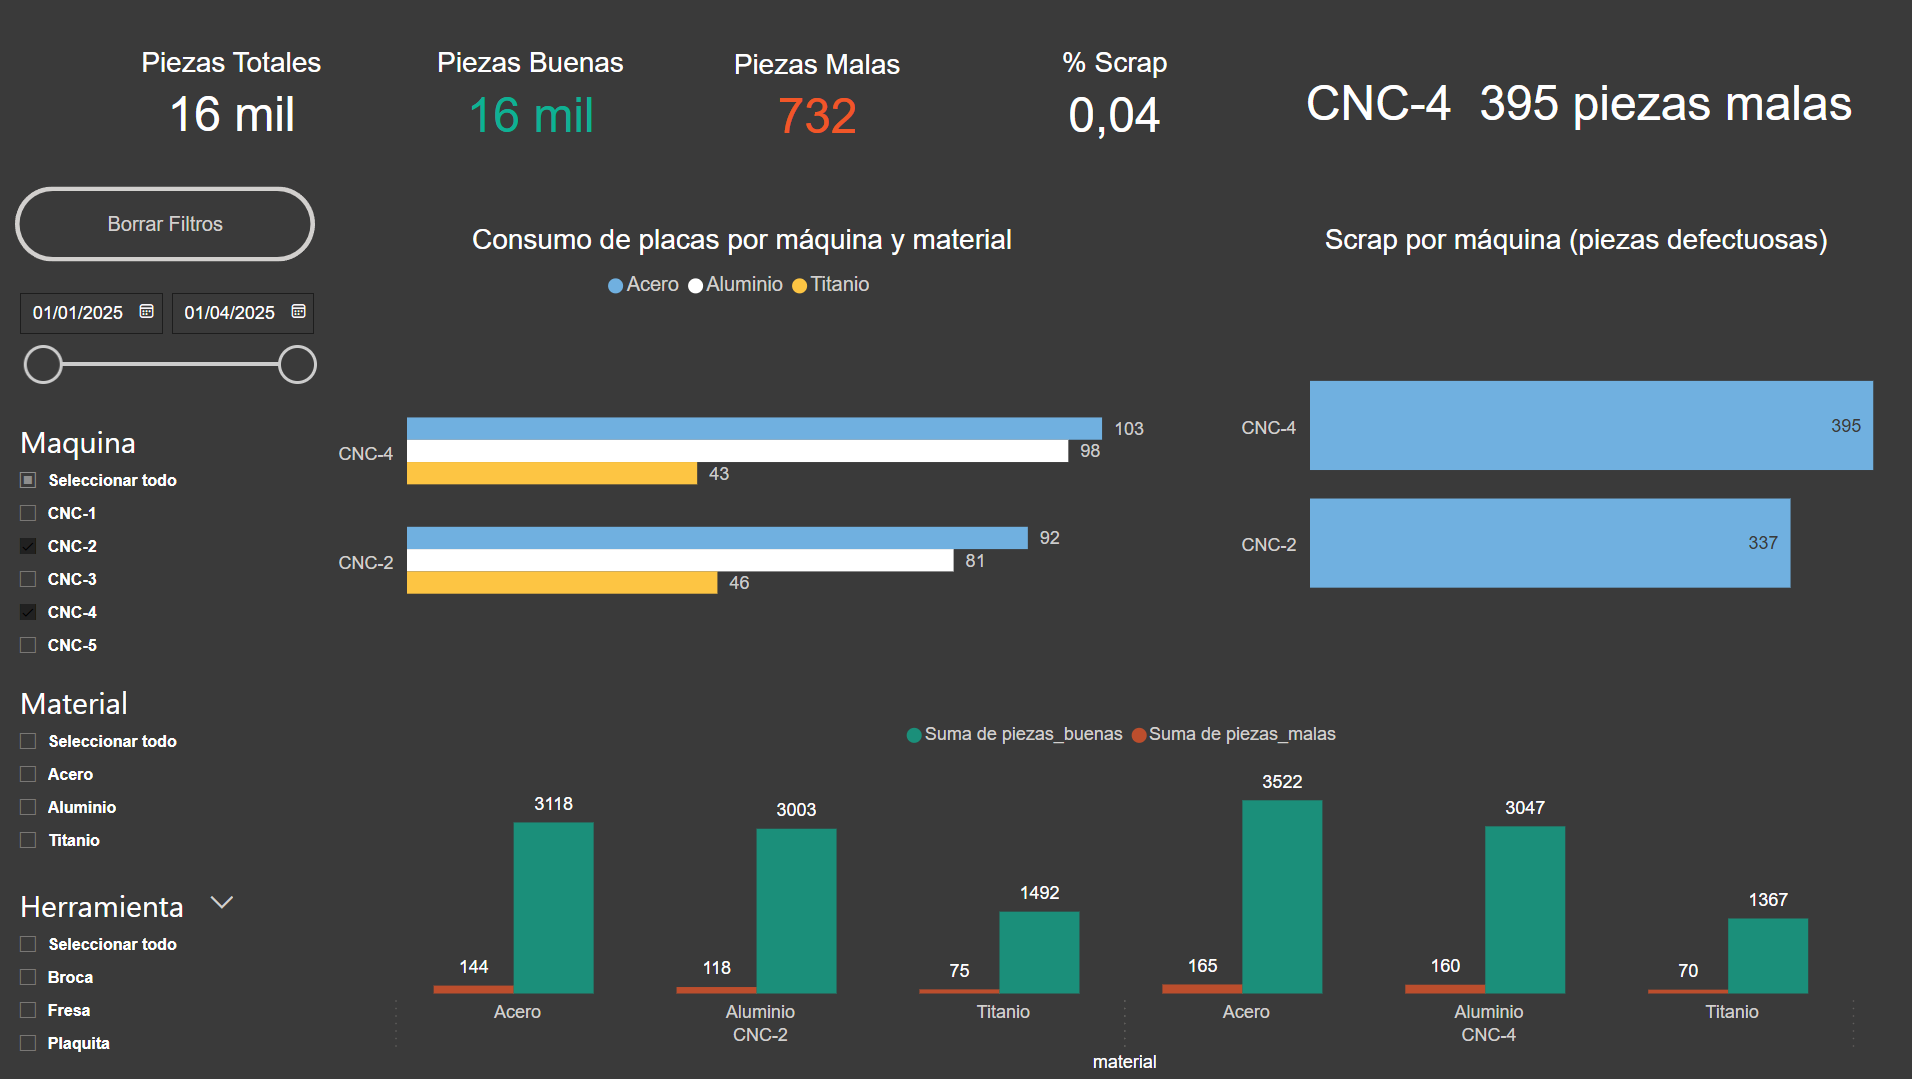

This screenshot's page, from the dashboard's own definition file:
{"tool":"powerbi","page":{"name":"Página 1","canvas":[1280,720],"ordinal":0},"visuals":[{"type":"clusteredColumnChart","fields":{"Category":["dim_maquinas.nombre_maquina","dim_piezas.material"],"Y":["Sum(fact_produccion.piezas_buenas)","Sum(fact_produccion.piezas_malas)"]},"box":[250.9,471.1,1028.8,248.8],"z":0},{"type":"slicer","title":"Tipo de herramienta","fields":{"Values":["dim_herramientas.tipo_herramienta"]},"box":[0,285.2,167.7,130.7],"z":1000},{"type":"slicer","title":"Nombre de maquina","fields":{"Values":["dim_maquinas.nombre_maquina"]},"box":[0,415.9,144,169.8],"z":2000},{"type":"slicer","fields":{"Values":["dim_piezas.material"]},"box":[0,585.7,136.3,134.2],"z":3000},{"type":"actionButton","box":[10,125,200,50],"z":4000},{"type":"card","title":"Piezas Totales","fields":{"Values":["fact_produccion.Piezas Totales"]},"box":[56.7,31.5,194.5,67.7],"z":5000},{"type":"card","title":"Piezas Buenas","fields":{"Values":["Sum(fact_produccion.piezas_buenas)"]},"box":[251,32,205,67.7],"z":6000},{"type":"card","title":"Piezas Malas","fields":{"Values":["Sum(fact_produccion.piezas_malas)"]},"box":[455.9,32.6,177.4,67],"z":7000},{"type":"card","title":"% Scrap","fields":{"Values":["fact_produccion.Scrap %"]},"box":[633.3,32,220.1,67.7],"z":8000},{"type":"barChart","title":"Scrap Por Maquina","fields":{"Category":["dim_maquinas.nombre_maquina"],"Y":["fact_produccion.Scrap por pieza"]},"box":[821.3,209.7,458.5,261.4],"z":9000},{"type":"clusteredBarChart","title":"Placas Usadas","fields":{"Y":["Sum(fact_produccion.placas_usadas)"],"Category":["dim_maquinas.nombre_maquina"],"Series":["dim_piezas.material"]},"box":[199.9,209.7,570.3,261.4],"z":10000},{"type":"card","fields":{"Values":["fact_produccion.Máquina con más scrap"]},"box":[853.4,32.9,398.4,67.8],"z":11000},{"type":"slicer","fields":{"Values":["fact_produccion.fecha"]},"box":[0,195,219.5,90.2],"z":11001}]}

Visuals, with their boxes in screenshot pixels (x1, y1, x2, y2), scaled from the page's 1280x720 canvas onto the 1912x1079 screenshot:
clusteredColumnChart - dim_maquinas.nombre_maquina x dim_piezas.material: rect(375, 706, 1911, 1078)
"Tipo de herramienta" slicer: rect(0, 427, 251, 623)
"Nombre de maquina" slicer: rect(0, 623, 215, 878)
slicer - dim_piezas.material: rect(0, 878, 204, 1078)
actionButton: rect(15, 187, 314, 262)
"Piezas Totales" card: rect(85, 47, 375, 149)
"Piezas Buenas" card: rect(375, 48, 681, 149)
"Piezas Malas" card: rect(681, 49, 946, 149)
"% Scrap" card: rect(946, 48, 1275, 149)
"Scrap Por Maquina" barChart: rect(1227, 314, 1911, 706)
"Placas Usadas" clusteredBarChart: rect(299, 314, 1150, 706)
card - fact_produccion.Máquina con más scrap: rect(1275, 49, 1870, 151)
slicer - fact_produccion.fecha: rect(0, 292, 328, 427)
